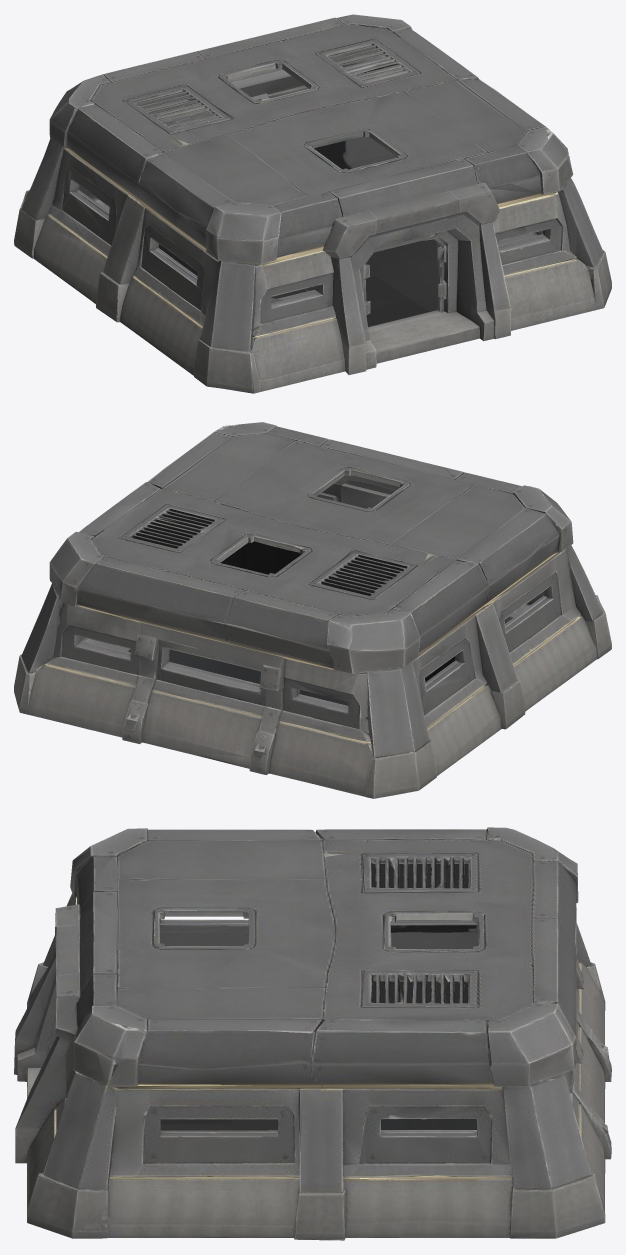
File: imperial_armoured_bunker_lod1.glb
The picture shows the model from 3 angles, top to bottom: view 1: azimuth 30°, elevation 25°; view 2: azimuth 150°, elevation 25°; view 3: azimuth 270°, elevation 25°; orthographic projection. The views are drawn at different scales.
Parts seen in each view (by area): view 1: mesh_node; view 2: mesh_node; view 3: mesh_node.
Part boxes in pixels (x1,y1,x2,y2): mesh_node: [14, 14, 611, 393]; mesh_node: [14, 422, 611, 798]; mesh_node: [14, 827, 611, 1240].
Bounding box in the file's own units: 12.11 × 4.23 × 12.25.
1 material, 1 textured.
